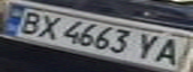3: (112, 27, 136, 56)
4: (54, 19, 84, 45)
6: (90, 25, 115, 52), (75, 21, 96, 48)
A: (151, 35, 190, 68)
B: (9, 9, 48, 35)
X: (30, 12, 66, 39)
Y: (133, 32, 169, 62)
